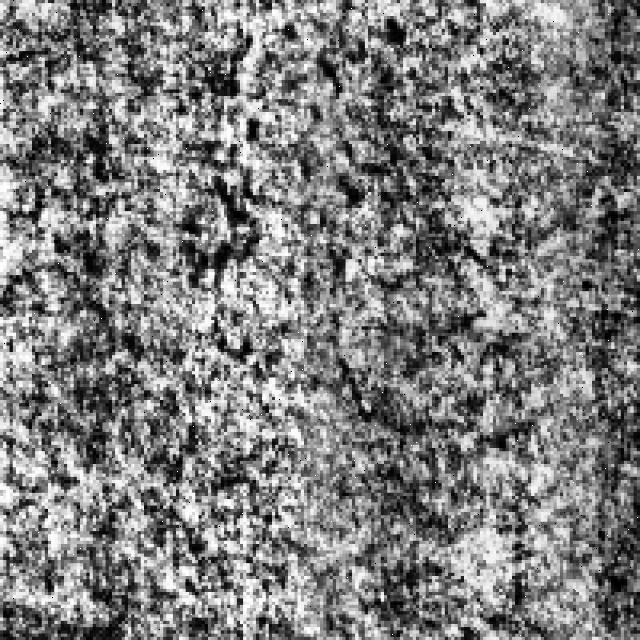Pitted_Surface: (211, 13, 349, 368)
